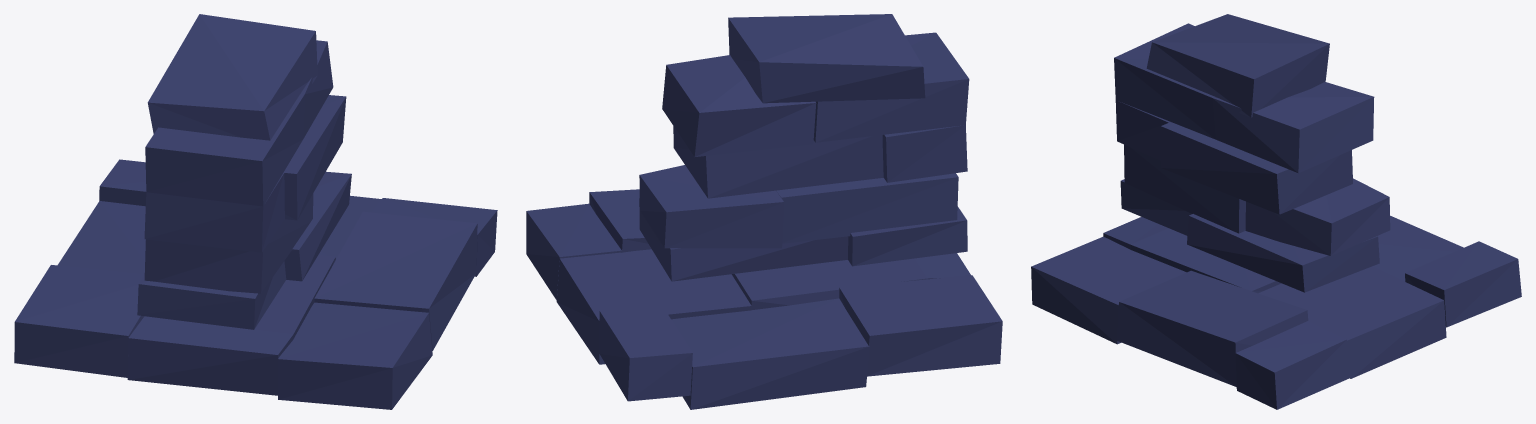
The model's file is Wall_D_a.FBX.
3 renders of one model, left to right at view 1: azimuth 30°, elevation 25°; view 2: azimuth 150°, elevation 25°; view 3: azimuth 270°, elevation 25°, orthographic. The views are drawn at different scales.
Parts seen in each view (by area): view 1: Object016; view 2: Object016; view 3: Object016.
Boxes of the visible parts, x1,y1,x2,y2 form: Object016: (14, 14, 497, 409); Object016: (526, 14, 1002, 409); Object016: (1031, 14, 1521, 409).
Size of the model in its own units: 57.14 by 32.47 by 56.4.
